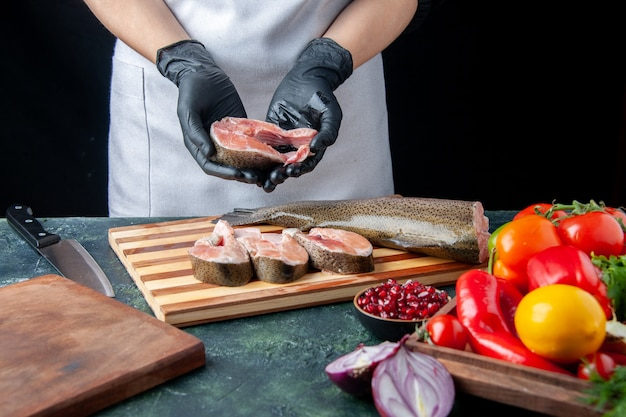knife: (6, 204, 117, 297)
